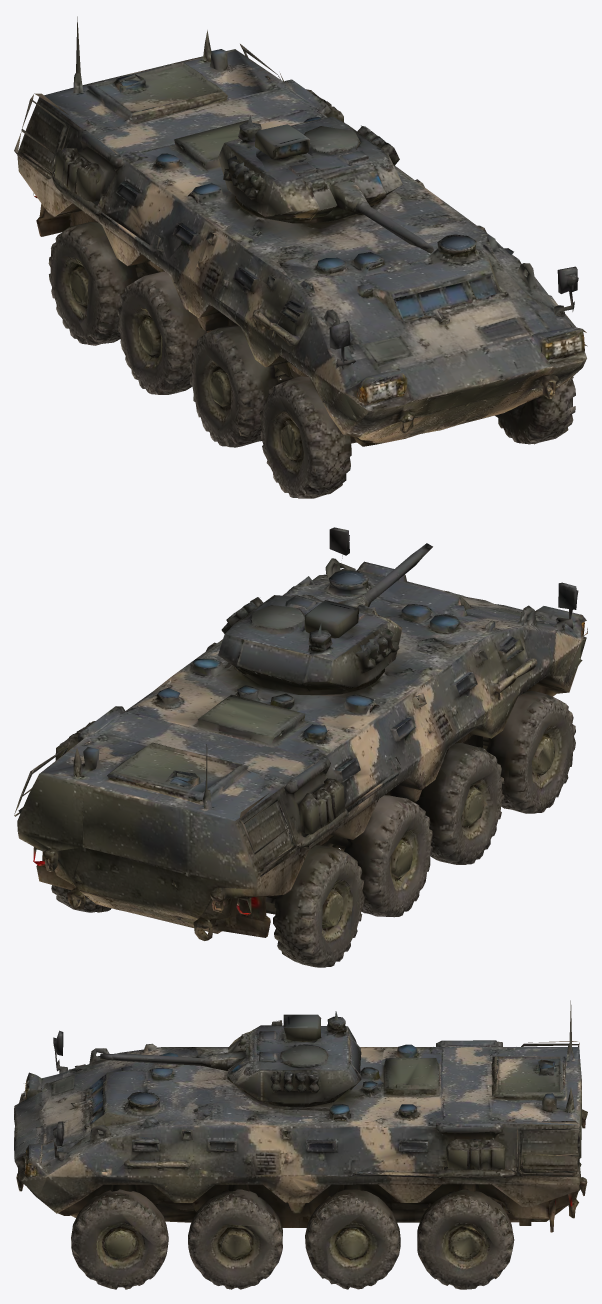
Rendered from car_apc.glb.
The picture shows the model from 3 angles, top to bottom: view 1: azimuth 30°, elevation 25°; view 2: azimuth 150°, elevation 25°; view 3: azimuth 270°, elevation 25°; orthographic projection. The views are drawn at different scales.
Visible parts, largest first — view 1: geometry_0; view 2: geometry_0; view 3: geometry_0.
Boxes of the visible parts, box(x1,y1,x2,y2) form: geometry_0: box(14, 16, 587, 498); geometry_0: box(14, 527, 587, 967); geometry_0: box(14, 1000, 587, 1289).
Size of the model in its own units: 0.501 by 0.4789 by 1.14.
Materials: 1 (1 with a texture image).
